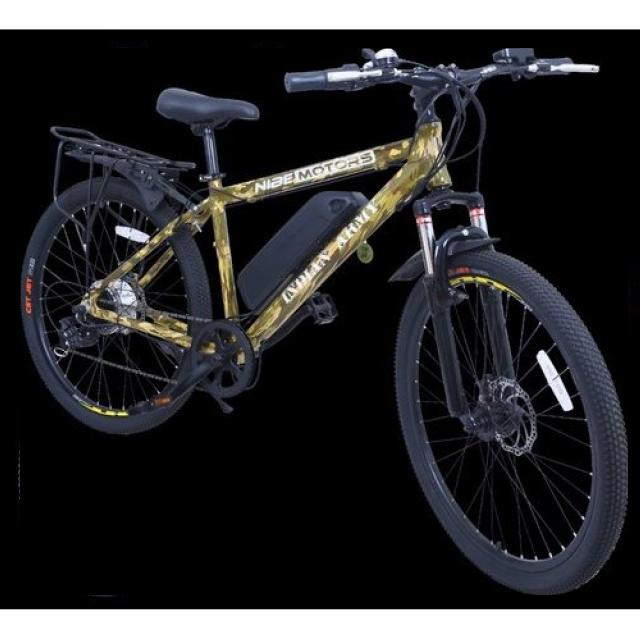bicycle: (20, 48, 628, 595)
